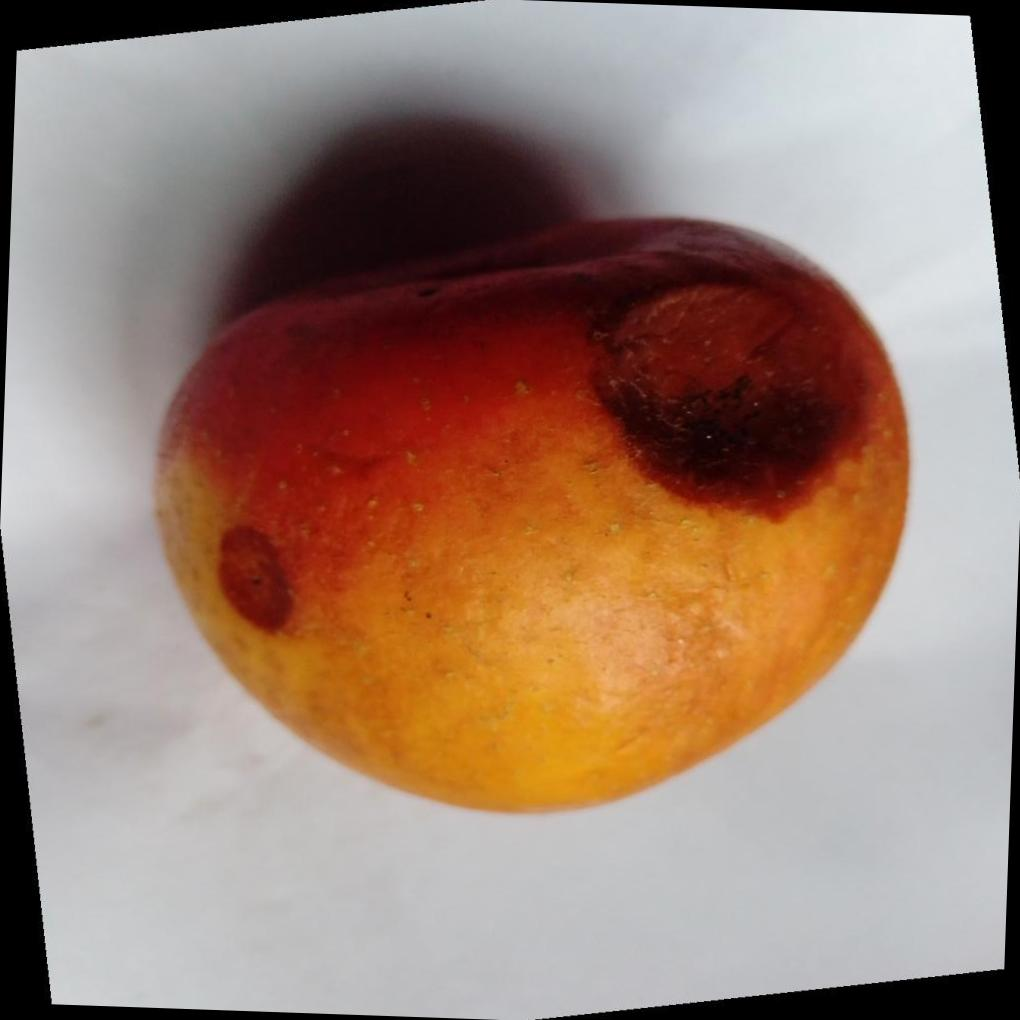FreshOrange: (147, 213, 911, 816)
